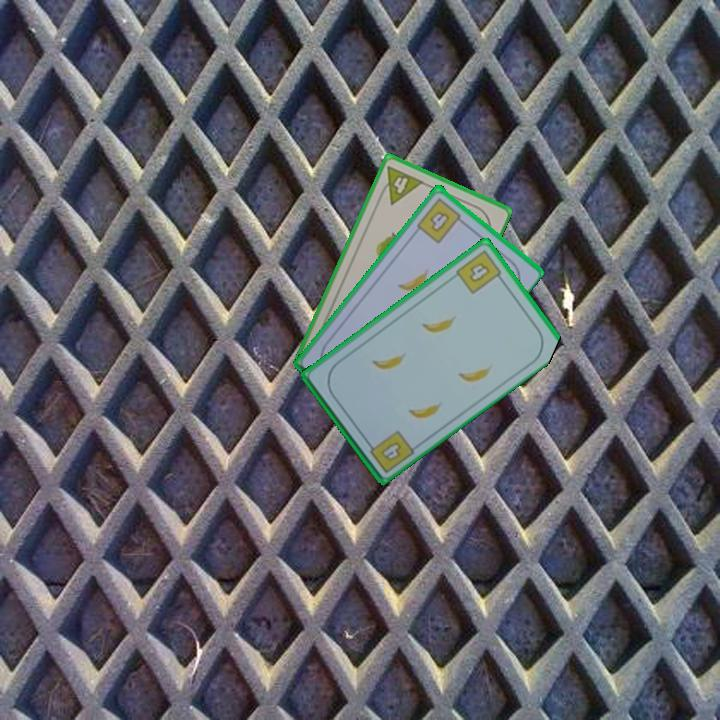4b: (413, 194, 468, 246), (452, 246, 507, 297), (362, 426, 417, 476)
4p: (374, 162, 426, 207)
